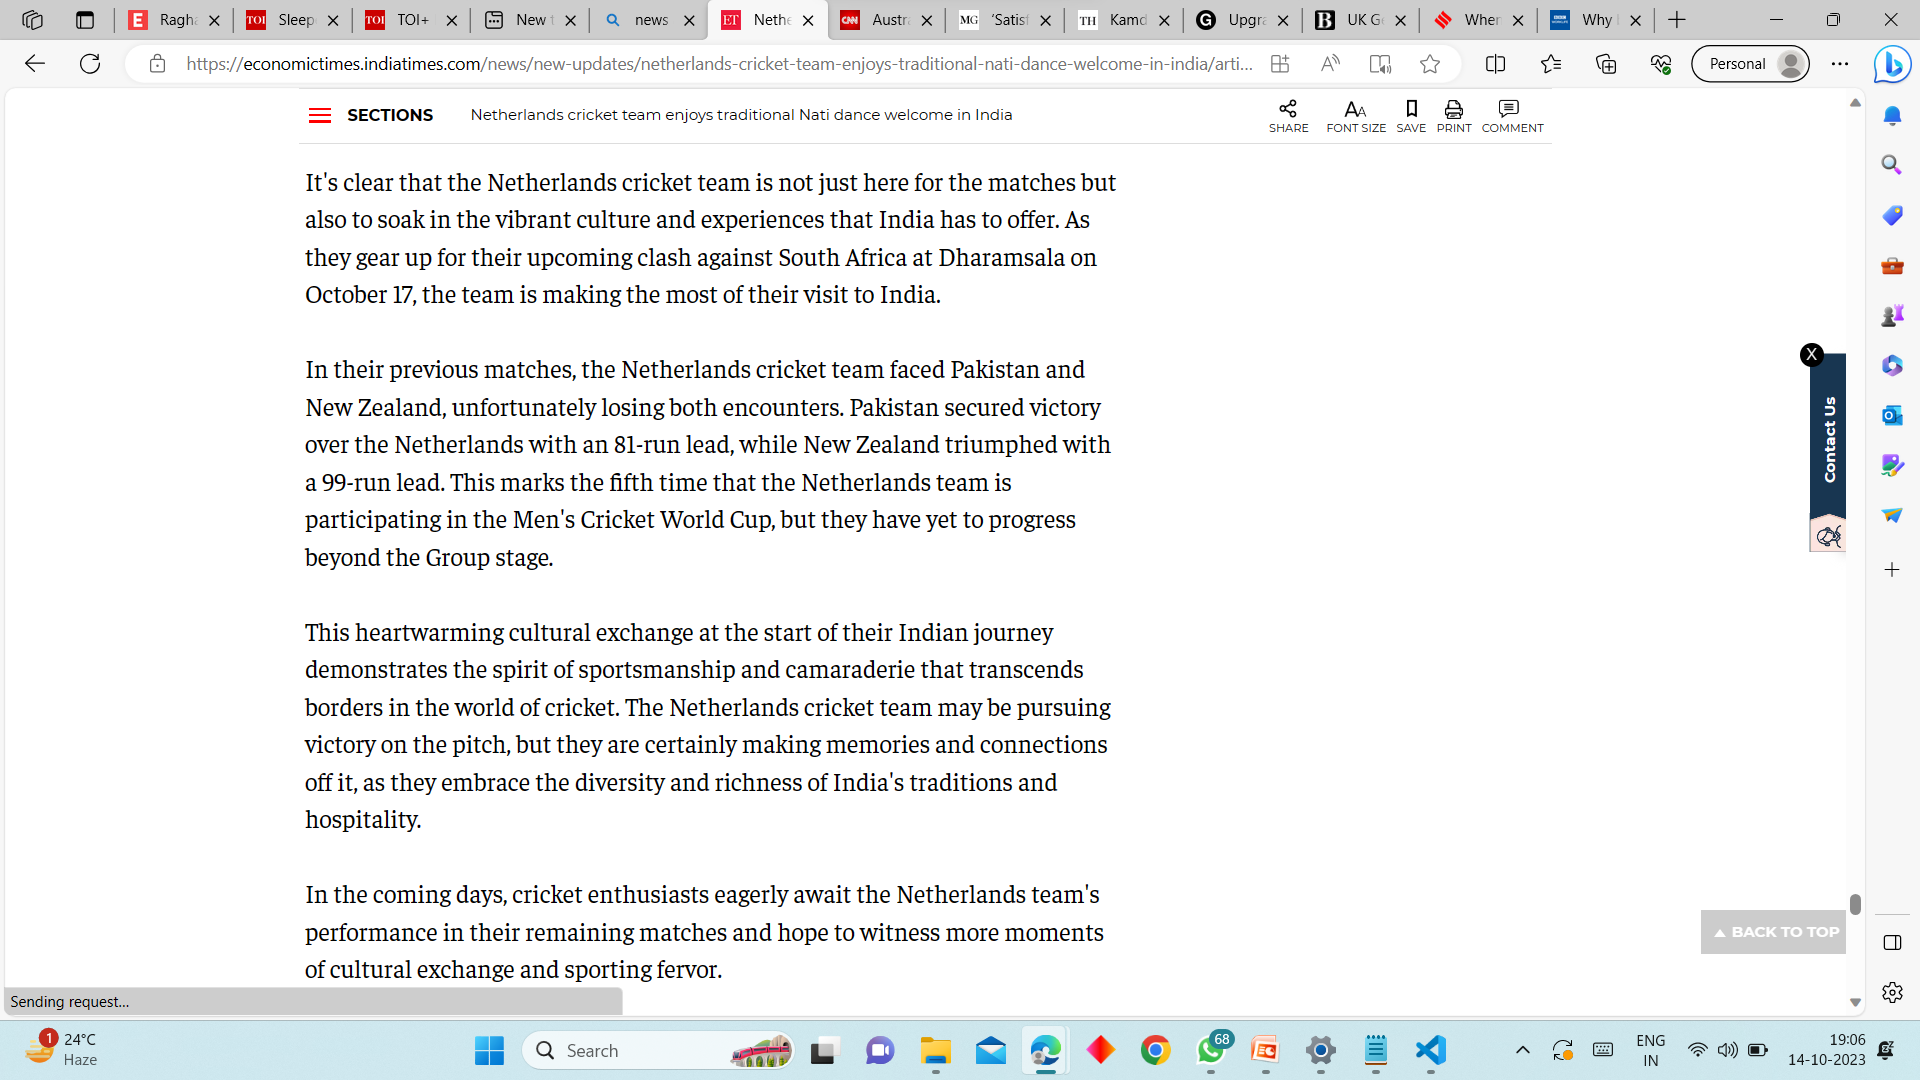Image: (293, 92, 338, 139)
Paragraph: (293, 619, 1207, 863), (304, 347, 1118, 593), (304, 163, 1114, 331), (293, 870, 1134, 995), (463, 94, 1058, 150), (333, 92, 447, 136), (1324, 98, 1391, 136), (1494, 94, 1550, 132), (1270, 85, 1310, 136), (1438, 85, 1478, 136), (1400, 94, 1429, 136)
